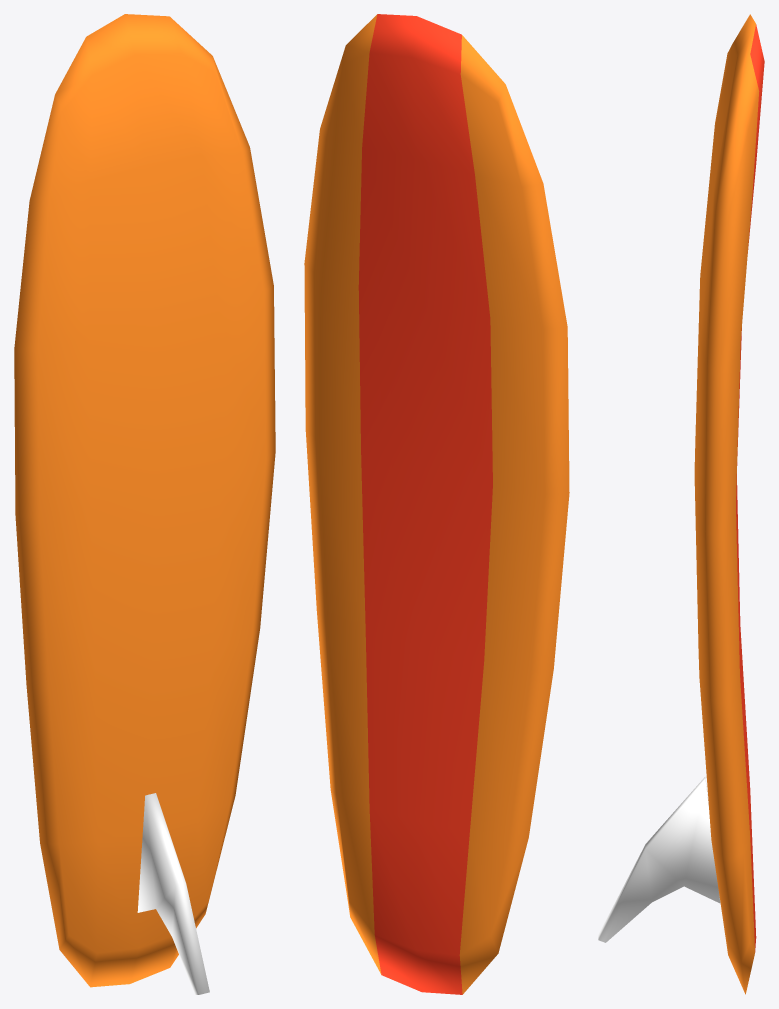
The model's file is SurfboardLongboard.glb.
The picture shows the model from 3 angles, left to right: view 1: azimuth 30°, elevation 25°; view 2: azimuth 150°, elevation 25°; view 3: azimuth 270°, elevation 25°; orthographic projection. The views are drawn at different scales.
Visible parts, largest first — view 1: SurfboardLong; view 2: SurfboardLong; view 3: SurfboardLong.
Part boxes in pixels (bbox=[...]): SurfboardLong: bbox=[14, 14, 275, 994]; SurfboardLong: bbox=[304, 14, 569, 994]; SurfboardLong: bbox=[598, 14, 764, 994].
Size of the model in its own units: 0.8808 by 3.13 by 0.4917.
Materials: 1 (1 with a texture image).
